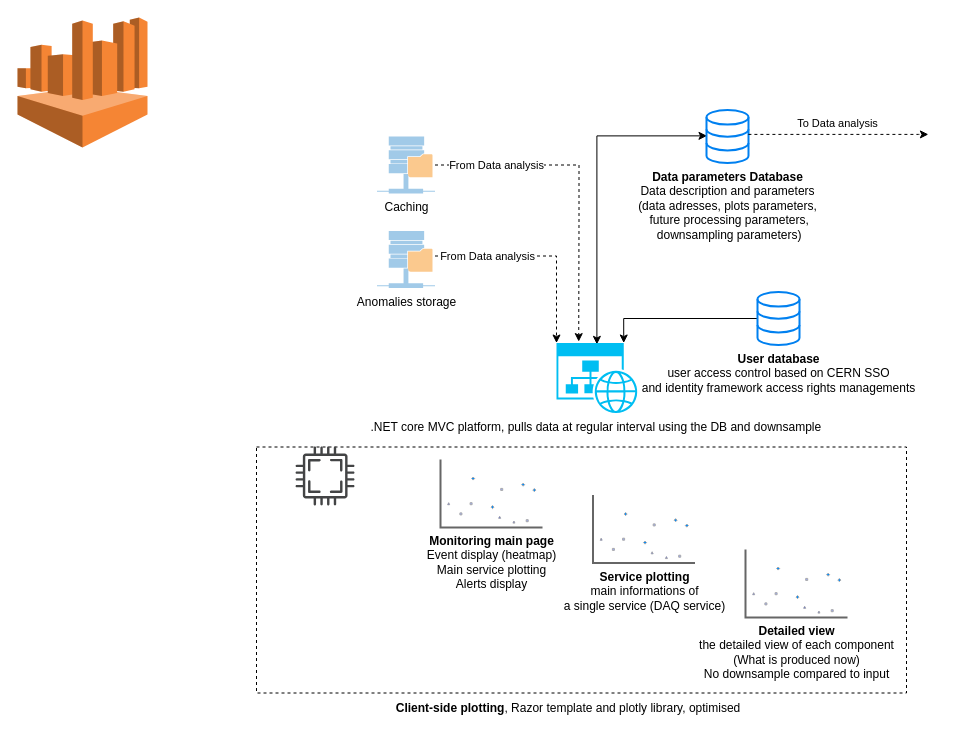
Some shapes in this 954 by 740 pixel diagram are drawn without their labels. The shapes that lost their labels are listed below. From the top down, each one's centre as x and y in pixels, then its label:
point (82, 82): Data display
point (324, 475): Data input representation
